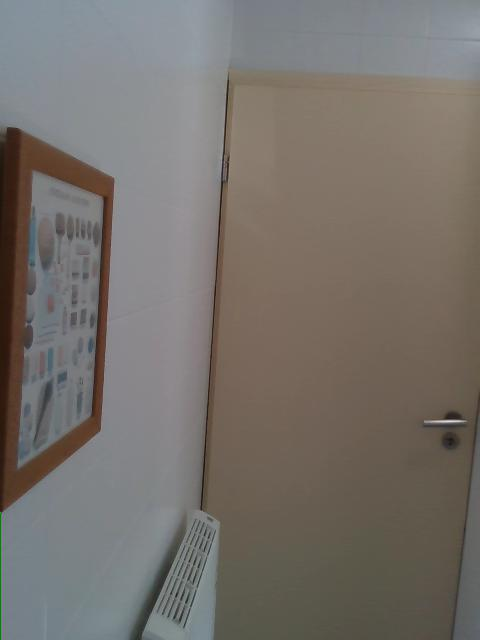door: (203, 74, 475, 634)
